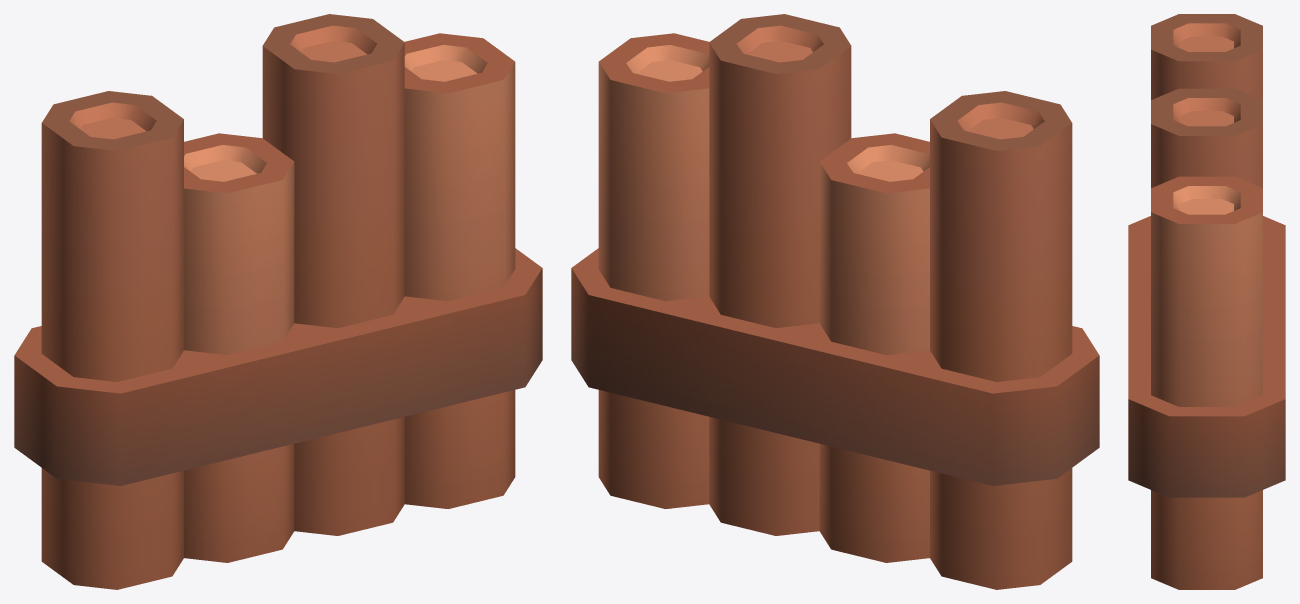
The model's file is kenney-platformer-poles.glb.
3 renders of one model, left to right at view 1: azimuth 30°, elevation 25°; view 2: azimuth 150°, elevation 25°; view 3: azimuth 270°, elevation 25°, orthographic. The views are drawn at different scales.
Visible parts, largest first — view 1: poles; view 2: poles; view 3: poles.
Part boxes in pixels (x1=…): poles: x1=14, y1=14, x2=542, y2=589; poles: x1=571, y1=14, x2=1099, y2=589; poles: x1=1128, y1=14, x2=1285, y2=589.
Bounding box in the file's own units: 1.1 × 1 × 0.35.
Materials: 1 (1 with a texture image).
